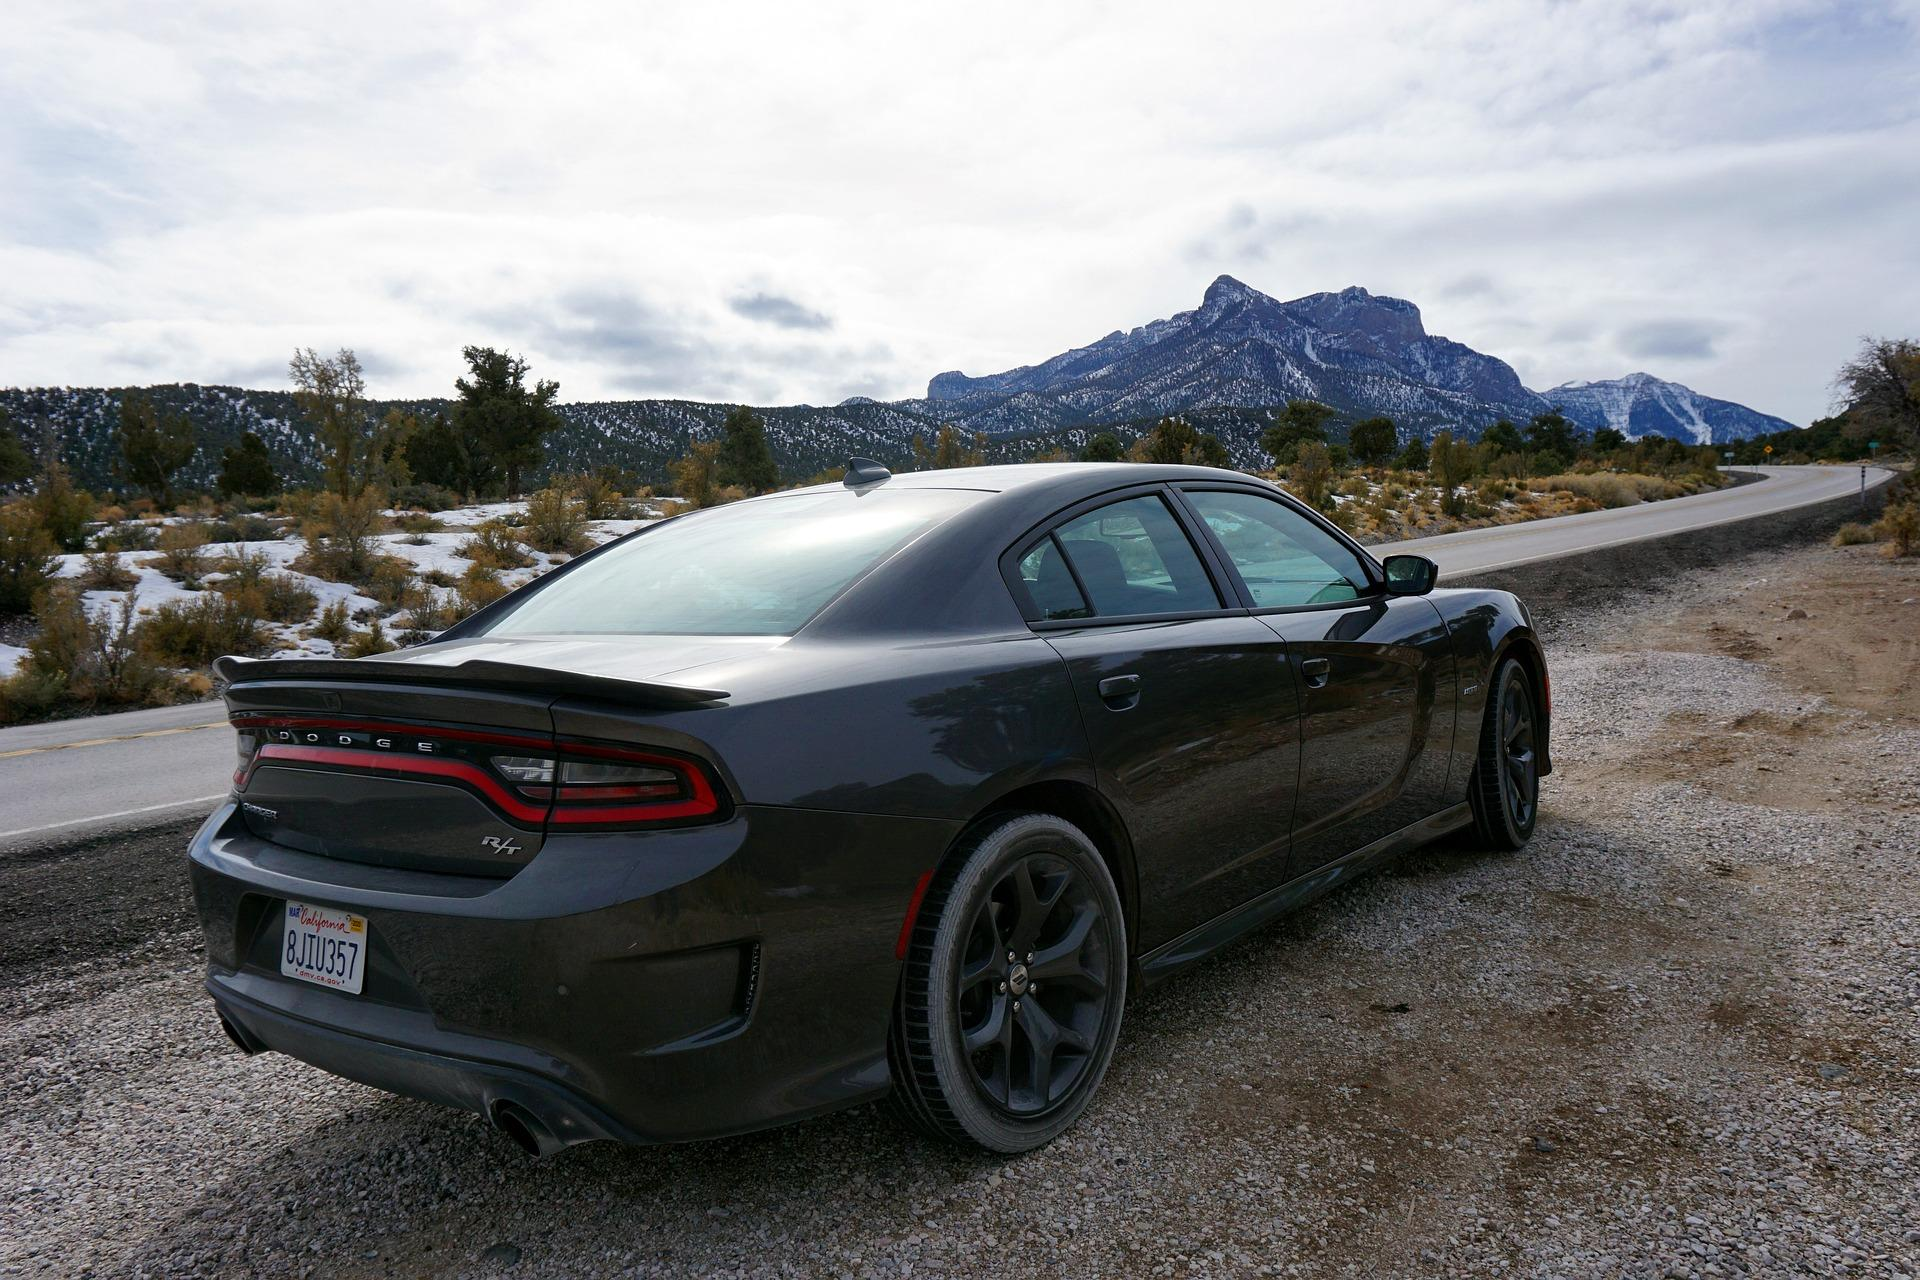dodge: (266, 716, 441, 769)
